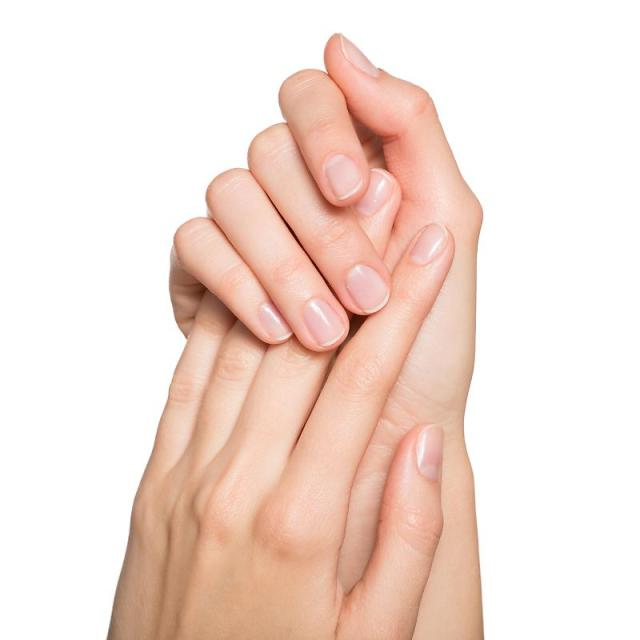Nail: (346, 264, 390, 314), (304, 298, 346, 346), (355, 169, 396, 216), (339, 34, 380, 78), (325, 154, 364, 200), (410, 224, 449, 265), (416, 424, 444, 481), (258, 301, 292, 341)
